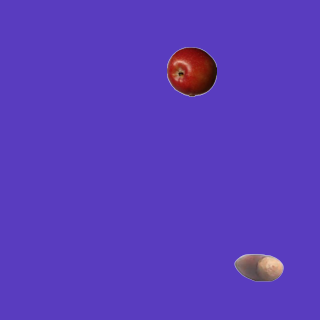Apple Braeburn: (166, 46, 216, 96)
Hazelnut: (233, 242, 283, 292)
